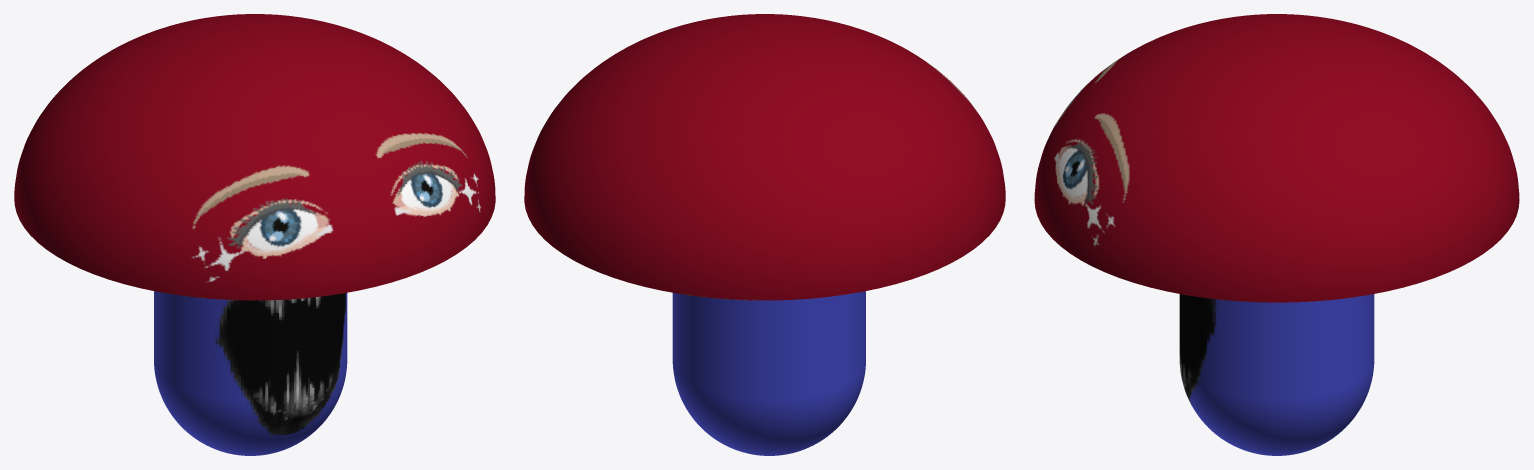
Rendered from Mutant.fbx.
3 renders of one model, left to right at view 1: azimuth 30°, elevation 25°; view 2: azimuth 150°, elevation 25°; view 3: azimuth 270°, elevation 25°, orthographic.
Parts seen in each view (by area): view 1: root (×2); view 2: root (×2); view 3: root (×2).
Part boxes in pixels (bbox=[...]): root (×2): bbox=[14, 14, 495, 455]; root (×2): bbox=[524, 14, 1005, 455]; root (×2): bbox=[1034, 14, 1519, 455].
Size of the model in its own units: 0.154 by 0.1416 by 0.154.
Materials: 2 (2 with a texture image).
